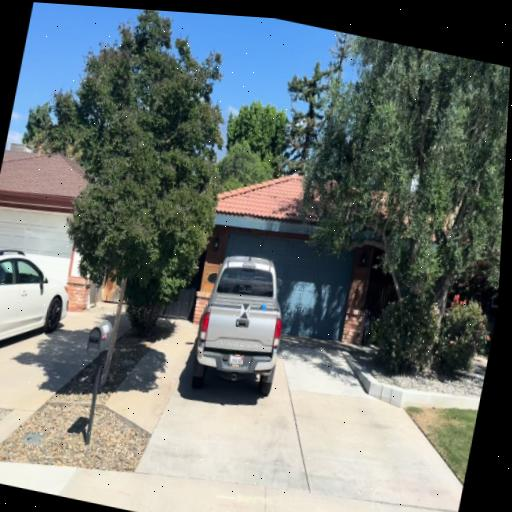target1: (240, 304, 251, 319)
